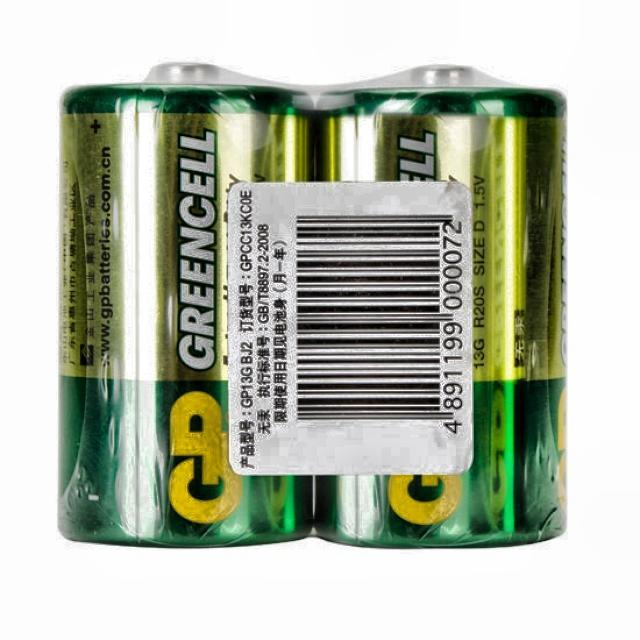battery: (63, 65, 565, 546)
